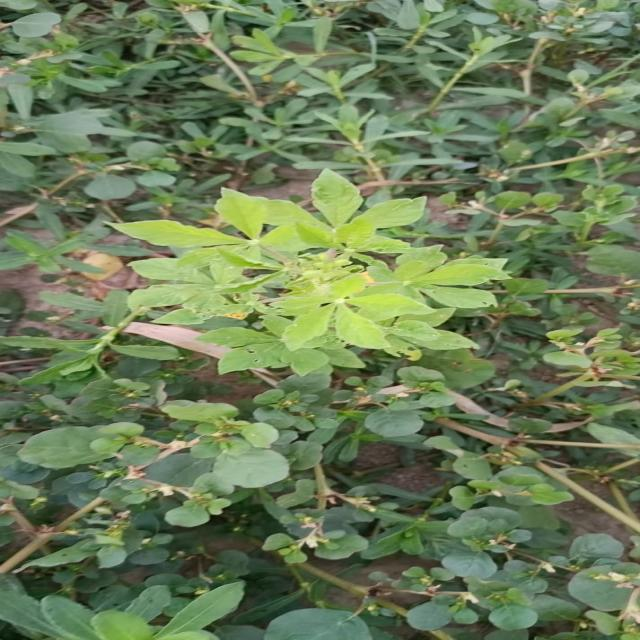plant: (112, 171, 508, 374)
